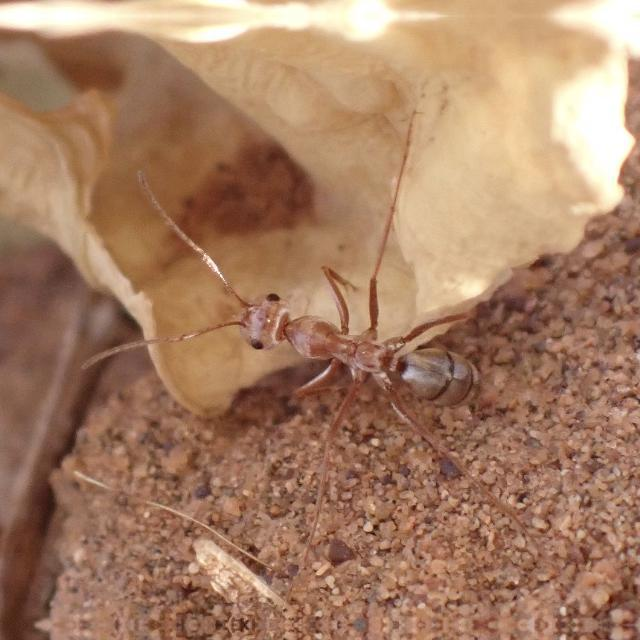Cataglyphis: (198, 250, 502, 438)
